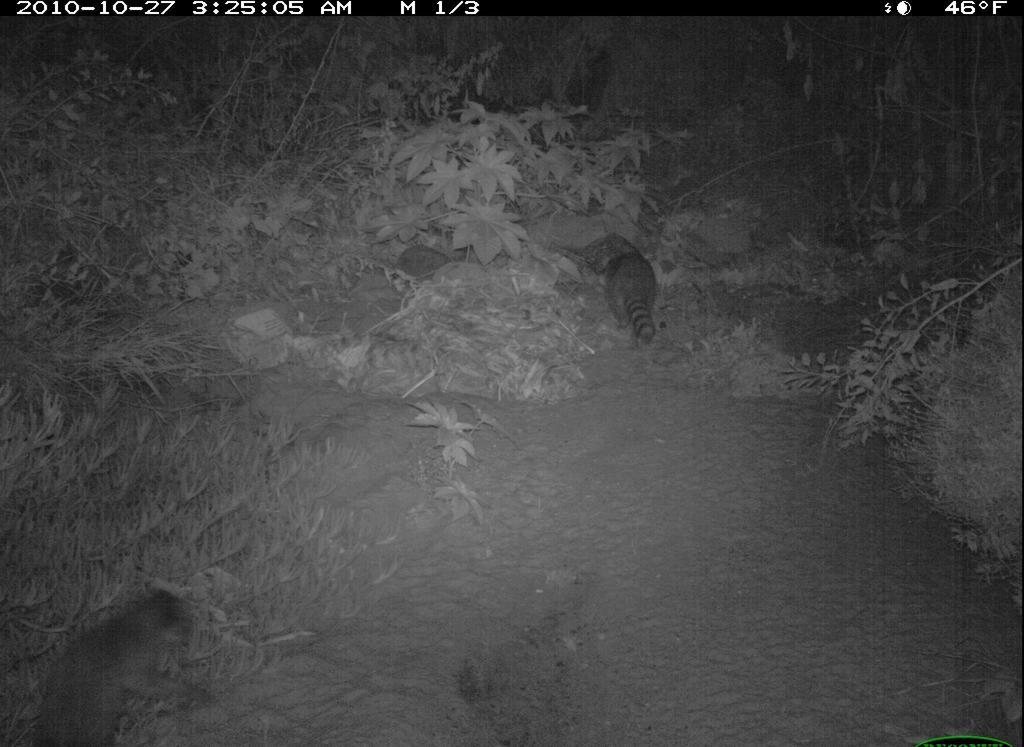raccoon: (29, 577, 228, 747), (570, 226, 679, 354)
